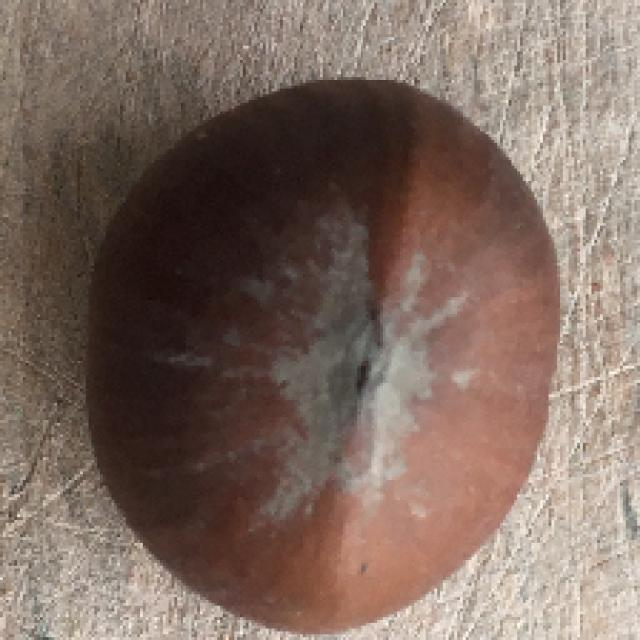DamagedHazelnut: (84, 79, 562, 637)
